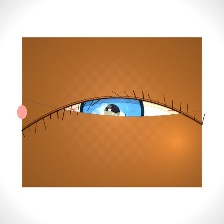corneal_ulcer: (88, 105, 127, 137)
